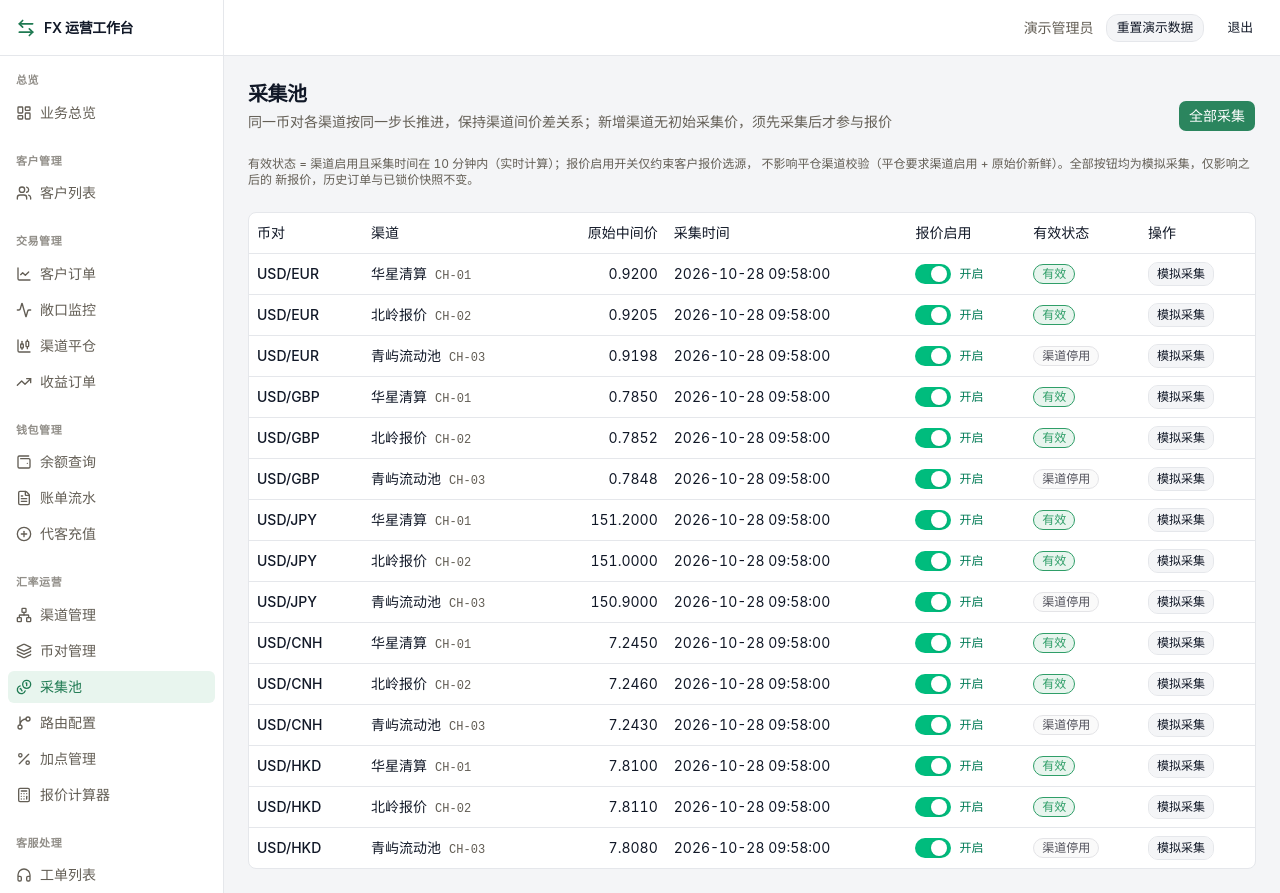
Test: 报价启用开关 › 关闭某行 → 仅该（币对,渠道）quoteEnabled=false，且不改变有效状态（§6.5 口径）
The width and height of the screenshot is (1280, 893).
What coordinates should you click on to do the following:
click the switch named "报价启用 USD/EUR 华星清算"
I would click on:
 (933, 274)
Its box is left=915, top=264, right=951, bottom=284.
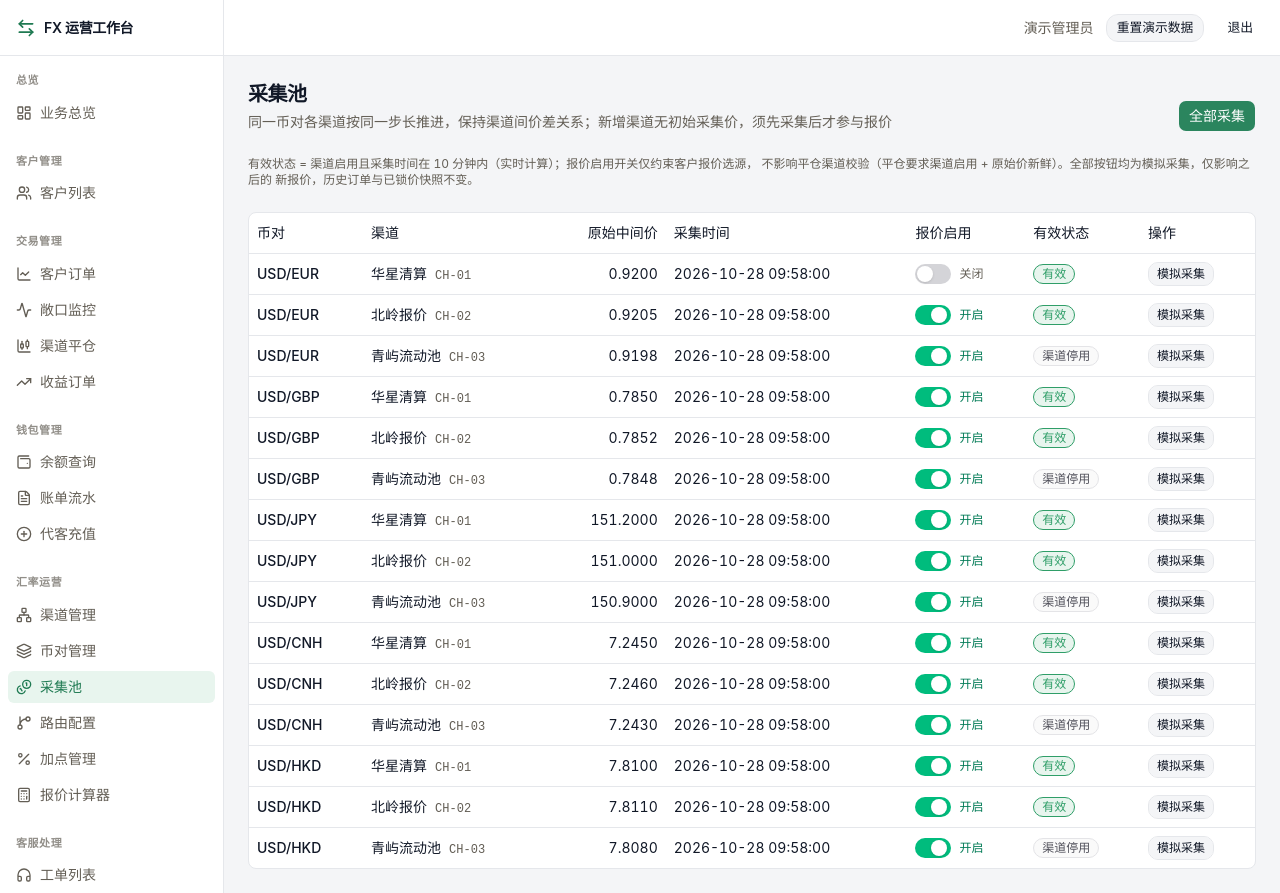
Check: the text "有效" is shown, box left=1042, top=266, right=1066, bottom=281
Check: the text "关闭" is shown, box left=959, top=266, right=983, bottom=280
